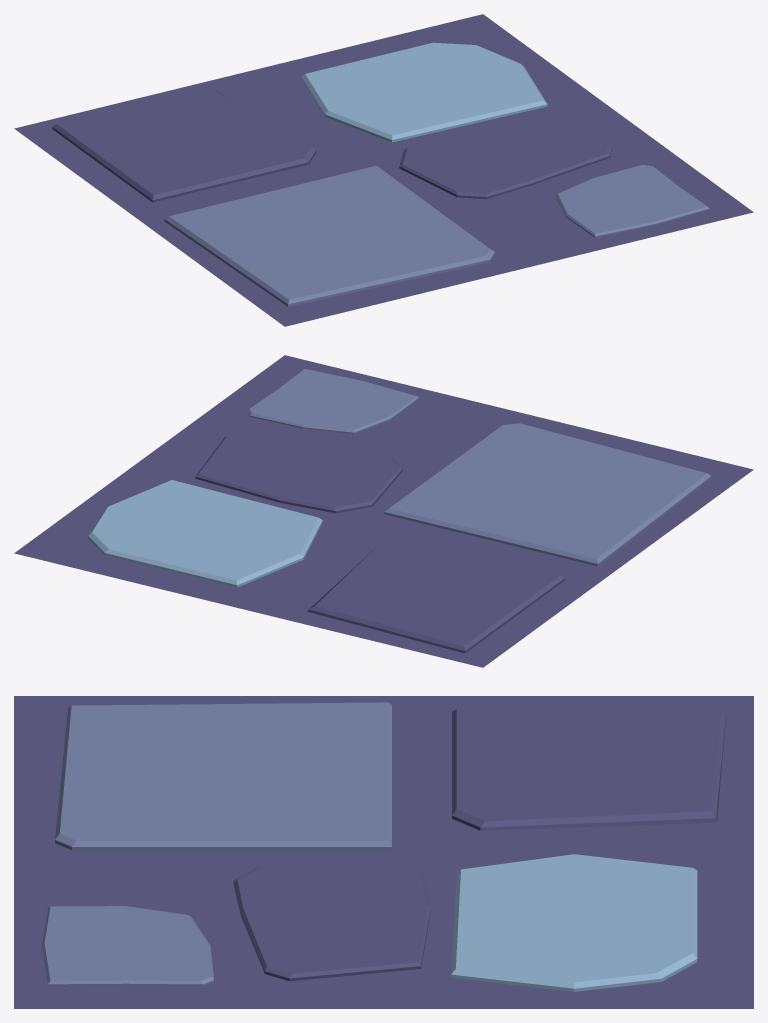
File: Floor_Stones_Big_04.fbx
The picture shows the model from 3 angles, top to bottom: view 1: azimuth 30°, elevation 25°; view 2: azimuth 150°, elevation 25°; view 3: azimuth 270°, elevation 25°; orthographic projection. The views are drawn at different scales.
Visible parts, largest first — view 1: Floor_Stones_Big_04; view 2: Floor_Stones_Big_04; view 3: Floor_Stones_Big_04.
Part boxes in pixels (x1,y1,x2,y2): Floor_Stones_Big_04: (14,14,753,326); Floor_Stones_Big_04: (14,355,753,667); Floor_Stones_Big_04: (14,696,753,1008).
Size of the model in its own units: 1000 by 11.22 by 1000.
